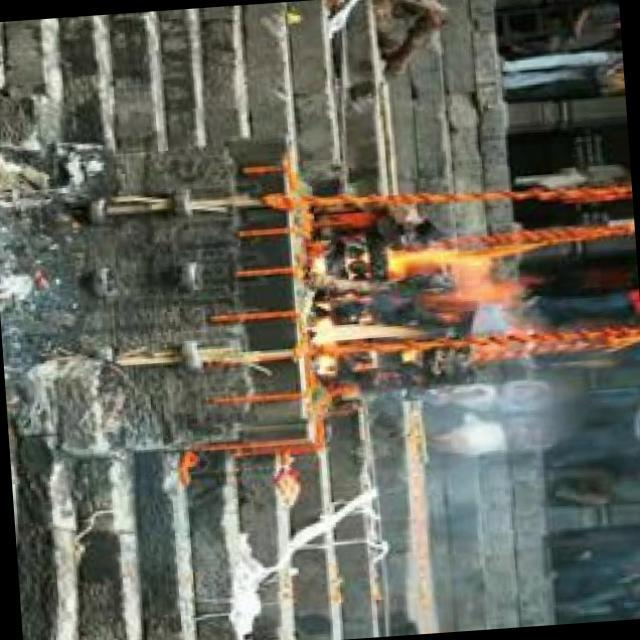Fire: (299, 237, 552, 360)
